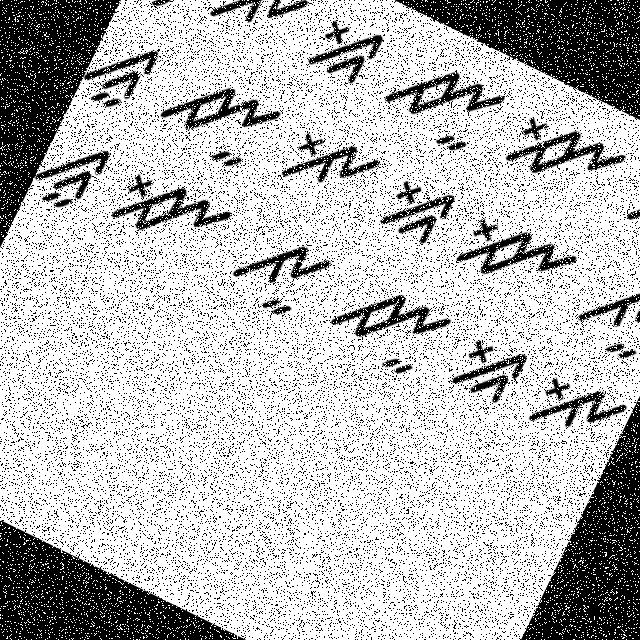ah: (223, 219, 337, 329), (564, 259, 639, 376), (610, 155, 639, 272)
nggah: (72, 21, 167, 128), (26, 127, 120, 226), (125, 0, 213, 20)
nggo: (296, 1, 392, 104), (362, 160, 462, 258), (442, 324, 536, 421)
njah: (318, 268, 459, 394), (372, 42, 510, 166), (149, 62, 285, 183)
njo: (492, 93, 634, 213), (448, 198, 584, 316), (104, 156, 238, 269)
o: (266, 106, 388, 220), (518, 352, 635, 464), (206, 0, 313, 53)
